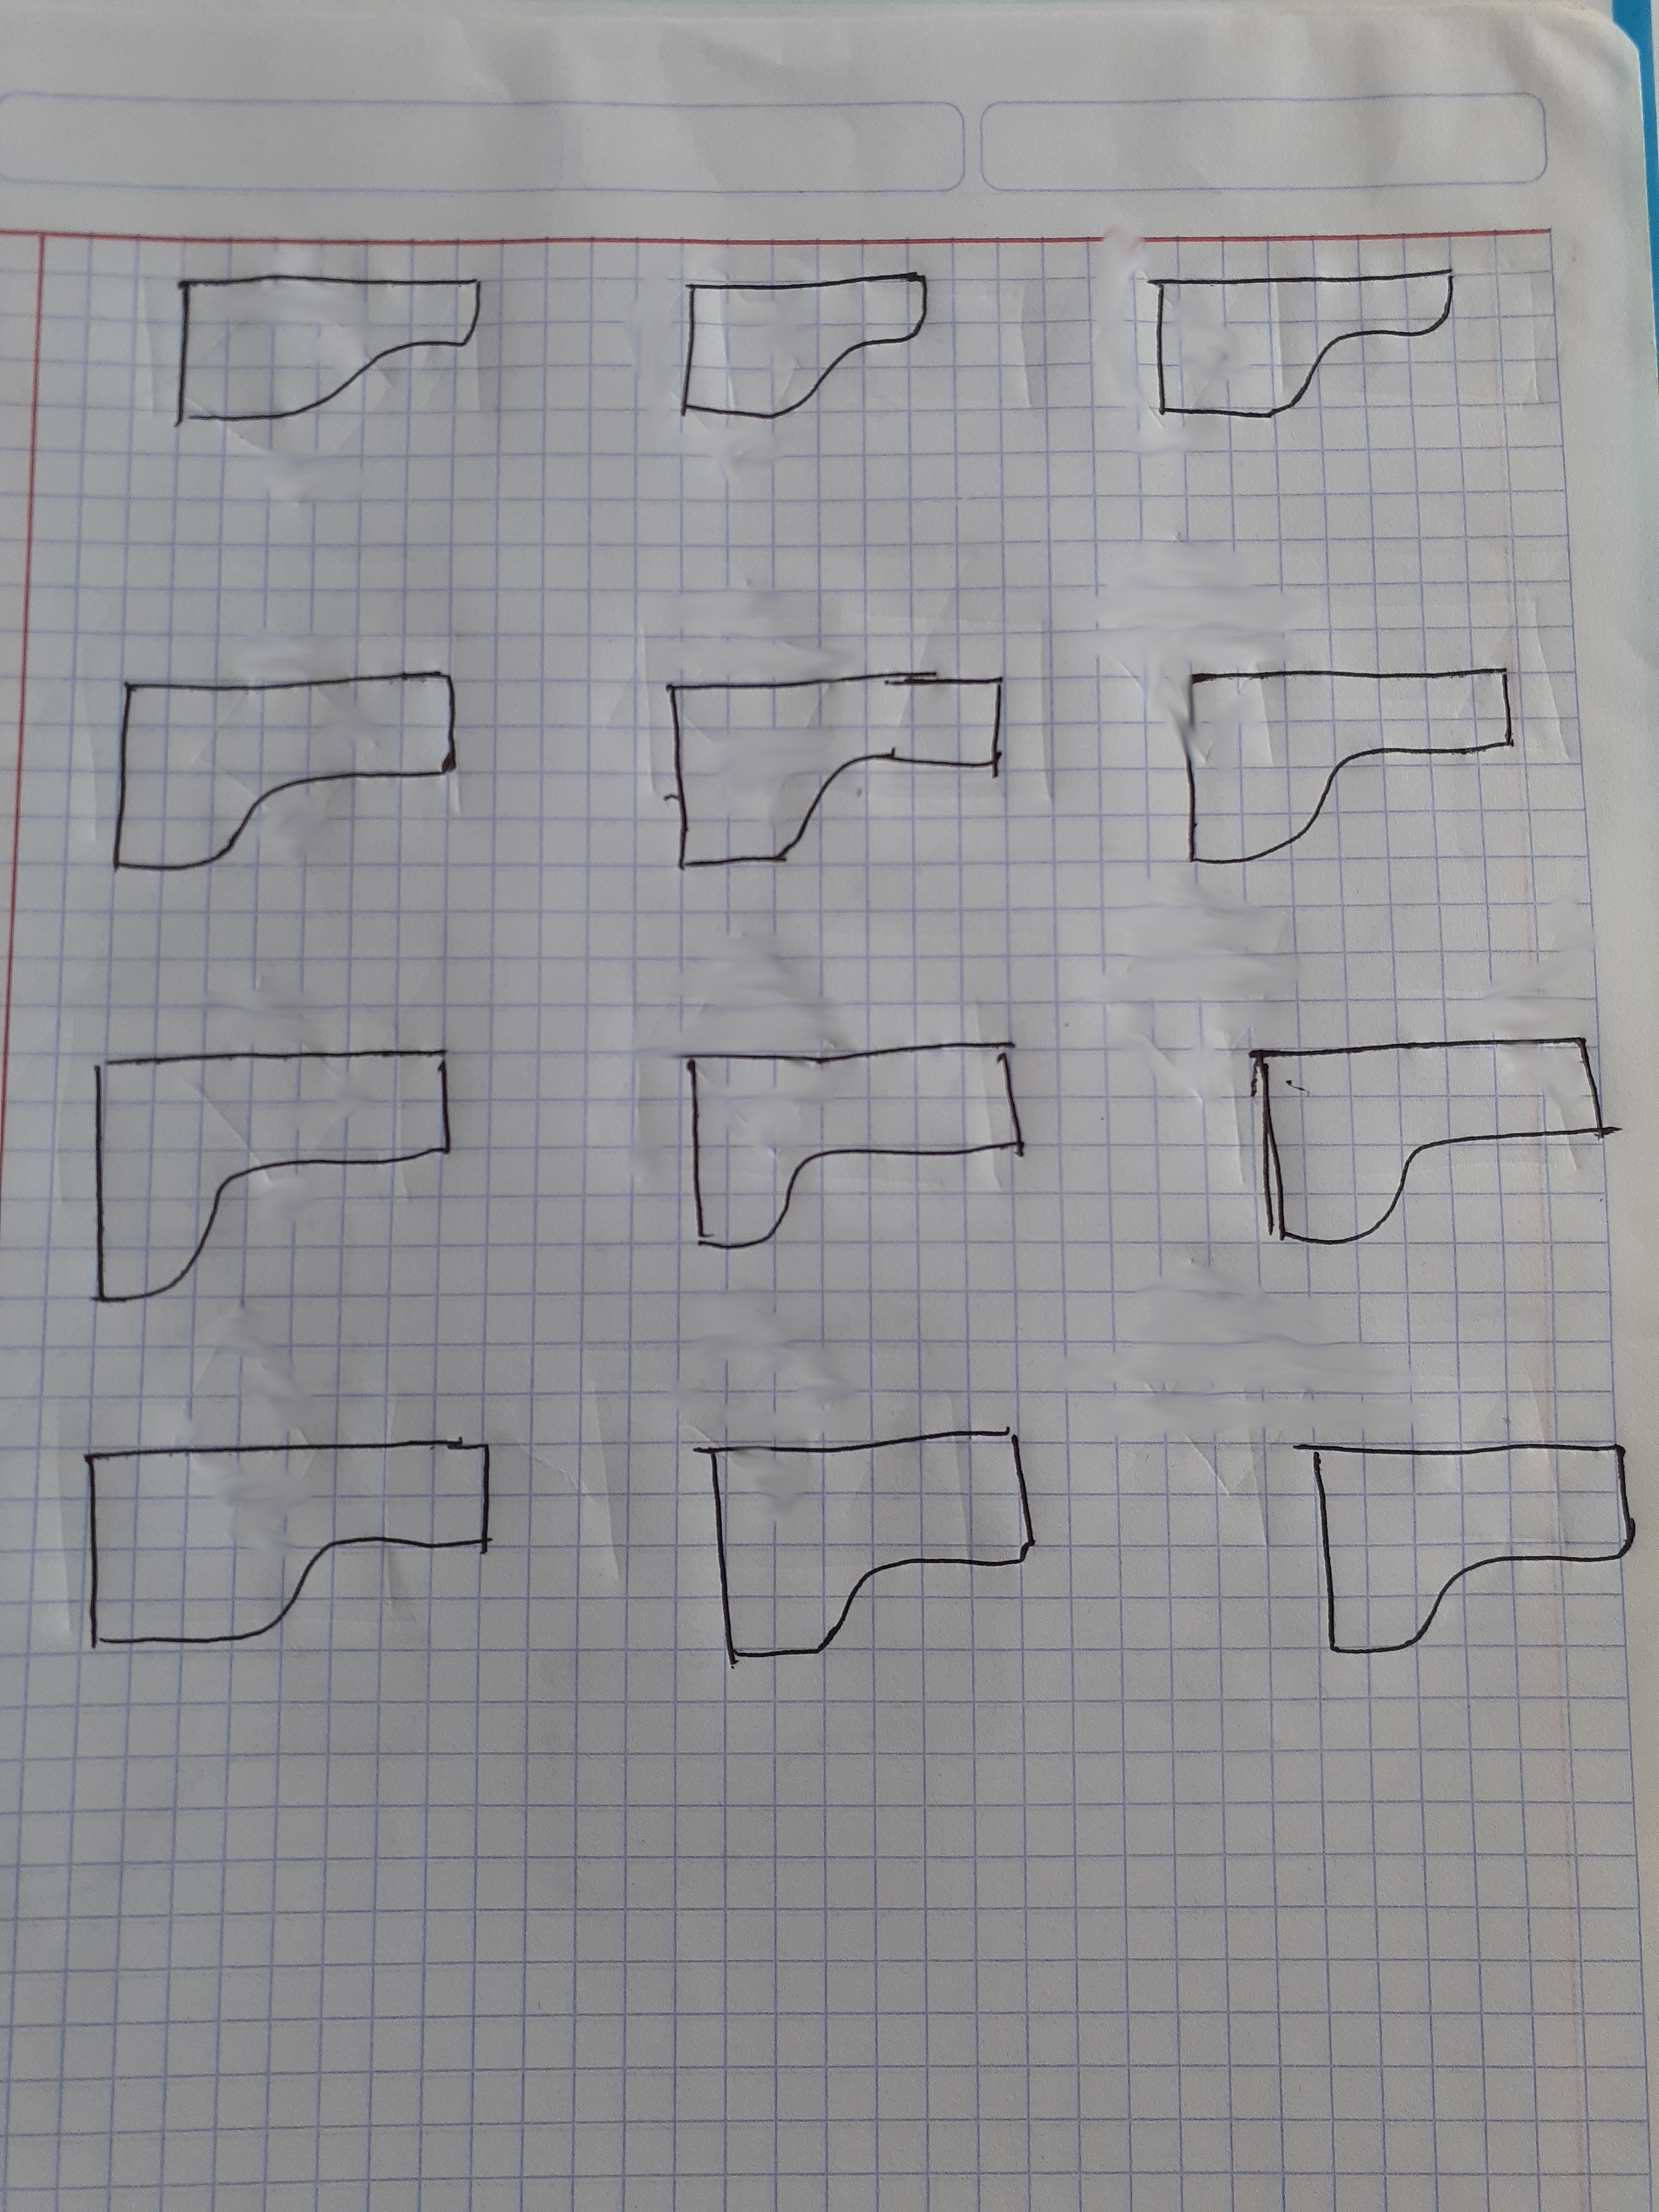print: (45, 1407, 580, 1702), (624, 1008, 1082, 1324), (61, 1008, 519, 1320), (610, 618, 1068, 888), (71, 636, 491, 927), (1143, 608, 1539, 913), (1227, 1001, 1642, 1282), (685, 1404, 1061, 1712), (1276, 1386, 1650, 1683), (150, 214, 545, 469), (1098, 218, 1513, 455), (641, 218, 986, 449)
